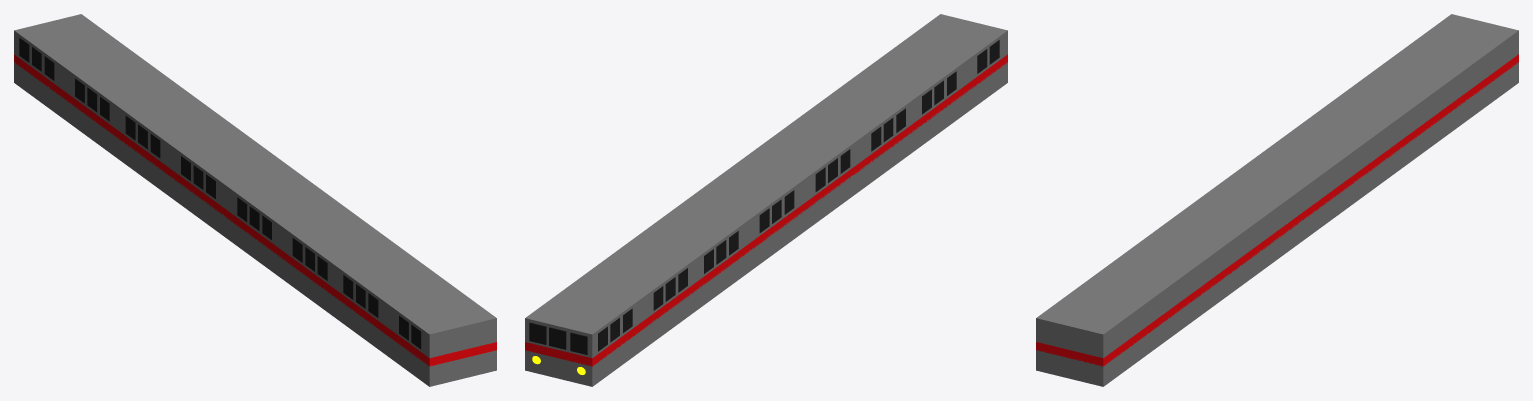
The model's file is RedLineTrain_1.fbx.
3 views of the same model, side by side, from view 1: azimuth 30°, elevation 25°; view 2: azimuth 150°, elevation 25°; view 3: azimuth 330°, elevation 25° (orthographic).
Visible parts, largest first — view 1: Train4, Train2, Train, Train58; view 2: Train4, Train2, Train, Train58; view 3: Train4, Train2, Train, Train58.
Boxes of the visible parts, <box> form: Train4: <box>14,14,496,358</box>; Train2: <box>14,62,496,386</box>; Train: <box>14,54,496,366</box>; Train58: <box>14,21,406,340</box>; Train4: <box>525,14,1007,358</box>; Train2: <box>525,62,1007,386</box>; Train: <box>525,54,1007,366</box>; Train58: <box>525,27,958,352</box>; Train4: <box>1036,14,1518,358</box>; Train2: <box>1036,61,1518,386</box>; Train: <box>1036,54,1518,366</box>; Train58: <box>1036,45,1489,352</box>.
Size of what is drawn, in the model's own units: 661 by 7063 by 490.
